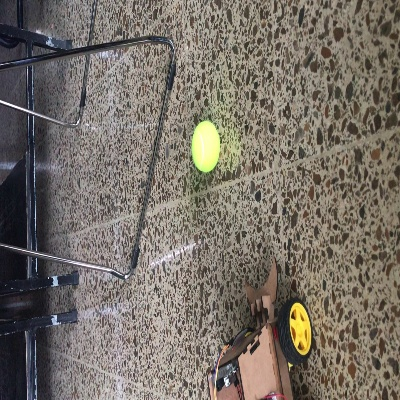Ball: (192, 121, 220, 172)
Robot: (206, 256, 313, 397)
